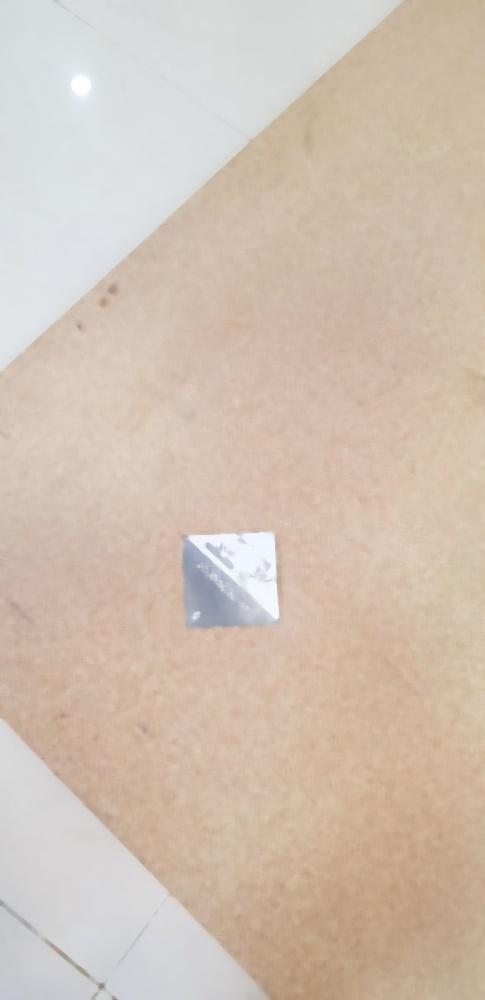corrosive: (184, 531, 280, 628)
